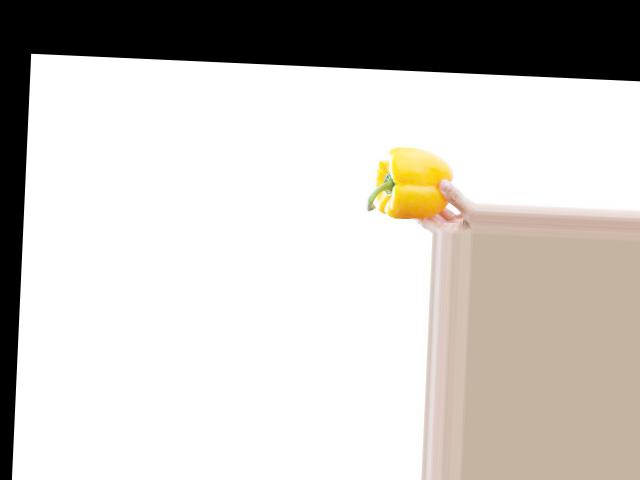bell_pepper: (362, 143, 455, 220)
